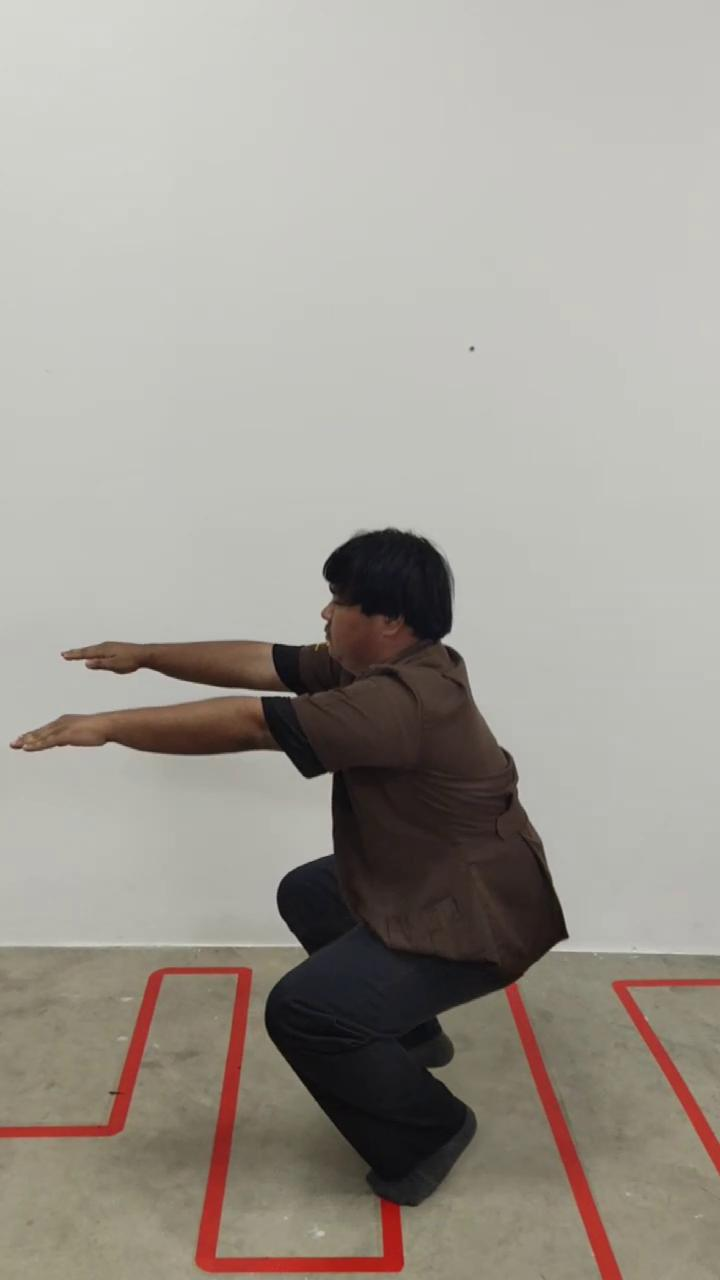squat down: (38, 529, 568, 1209)
